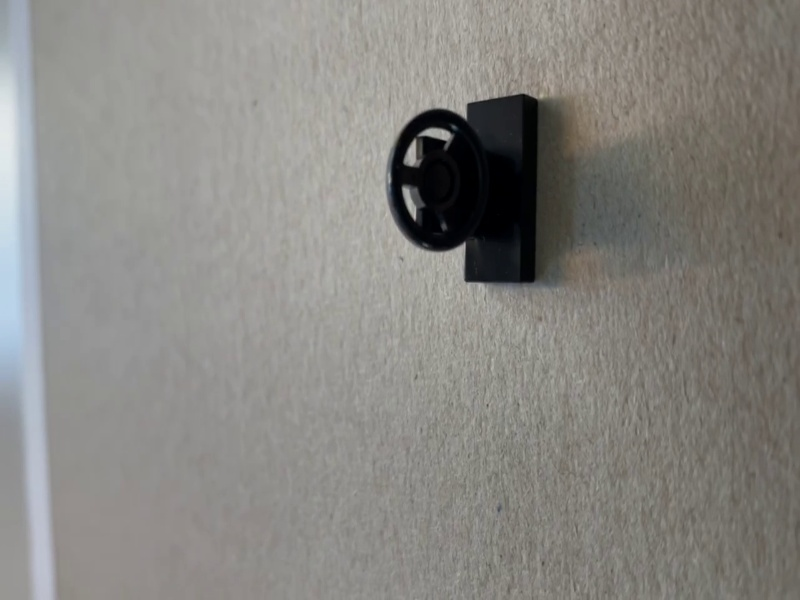steering wheel: (383, 94, 539, 287)
